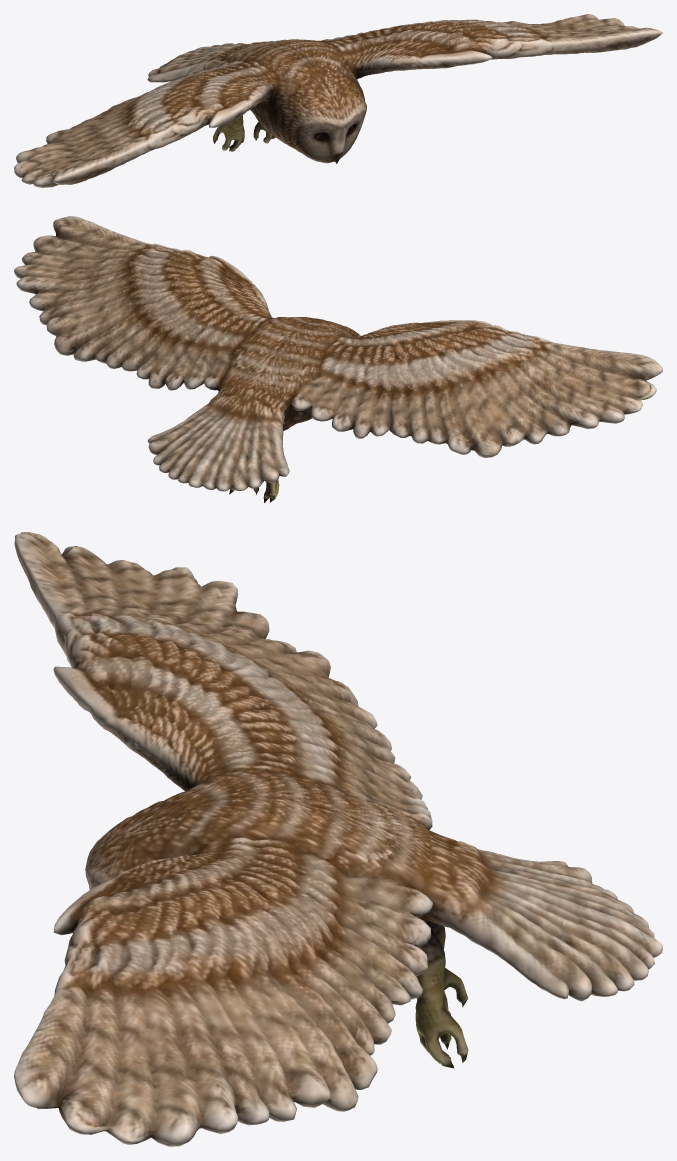
The model's file is MZ4250 - Giant Owl_Barred.glb.
The picture shows the model from 3 angles, top to bottom: view 1: azimuth 30°, elevation 25°; view 2: azimuth 150°, elevation 25°; view 3: azimuth 270°, elevation 25°; orthographic projection. The views are drawn at different scales.
Visible parts, largest first — view 1: Owl.001; view 2: Owl.001; view 3: Owl.001.
Part boxes in pixels (left/top/right/bottom): Owl.001: left=14, top=14, right=662, bottom=187; Owl.001: left=14, top=216, right=662, bottom=502; Owl.001: left=14, top=532, right=662, bottom=1146.
Size of the model in its own units: 2.56 by 0.5603 by 1.21.
1 material, 1 textured.
